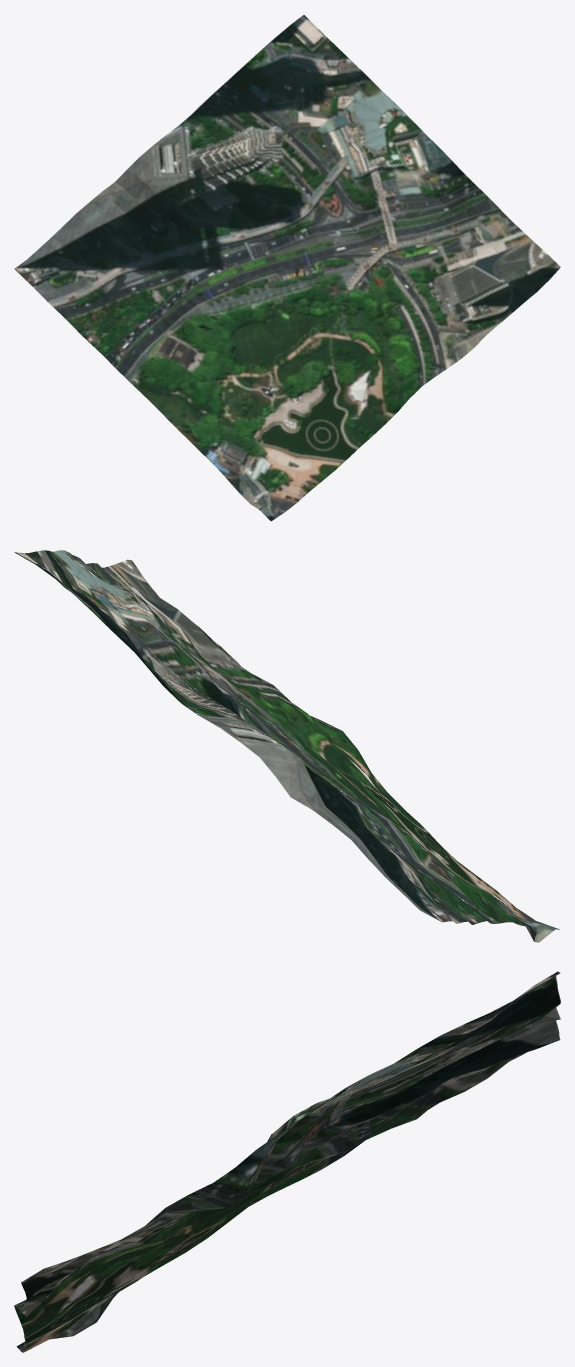
3 views of the same model, one above another, from view 1: azimuth 30°, elevation 25°; view 2: azimuth 150°, elevation 25°; view 3: azimuth 270°, elevation 25° (orthographic). The views are drawn at different scales.
Bounding box in the file's own units: 585 × 490 × 457.
1 material, 1 textured.
